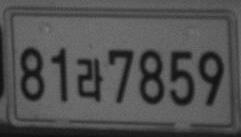1: (49, 47, 74, 102)
5: (168, 50, 194, 107)
7: (108, 49, 134, 103)
8: (138, 48, 164, 105), (20, 47, 45, 101)
9: (198, 50, 225, 107)
라: (76, 58, 103, 103)
